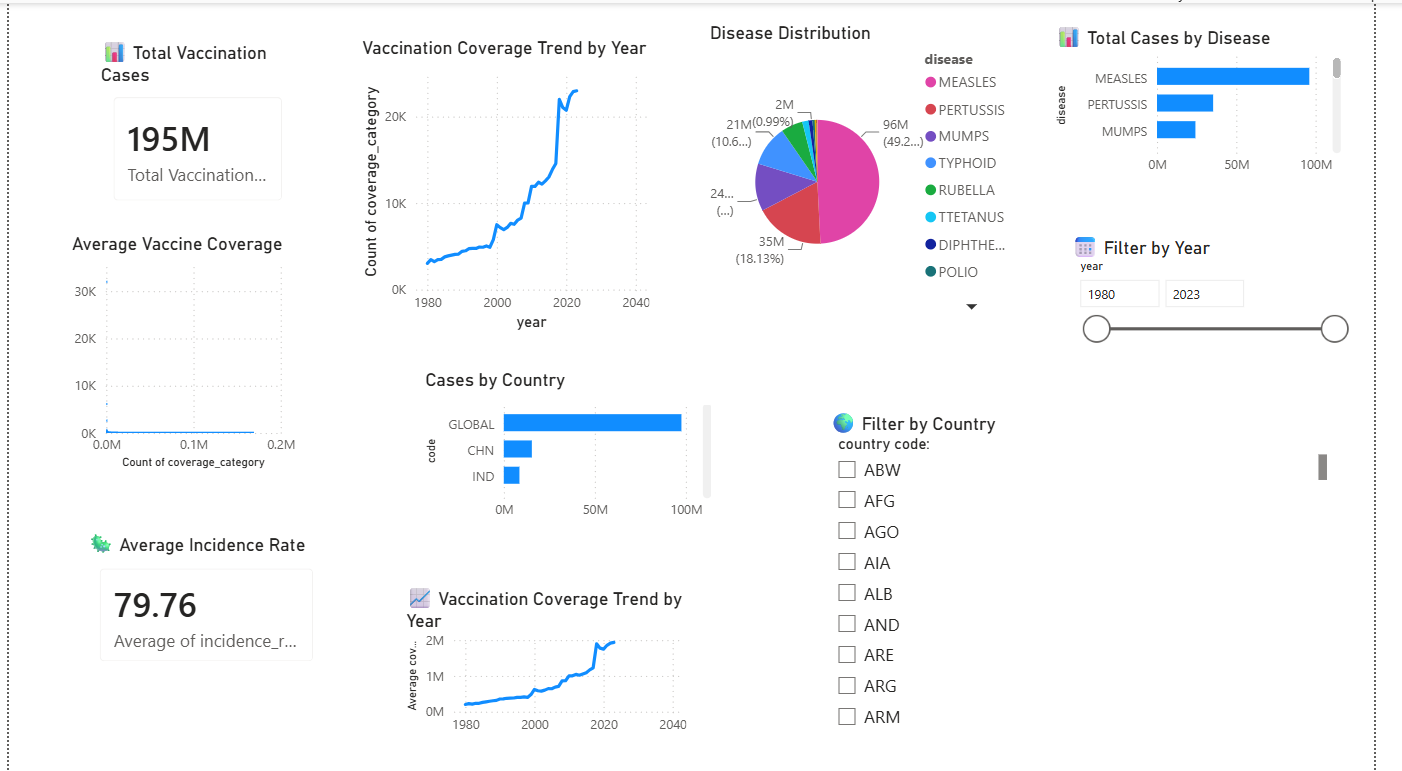

This screenshot's page, from the dashboard's own definition file:
{"tool":"powerbi","page":{"name":"Page 1","canvas":[1280,720],"ordinal":0},"visuals":[{"type":"cardVisual","title":"📊 Total Vaccination Cases","fields":{"Data":["Sum(cleaned_cases.cases)"]},"box":[81.1,31.9,192.9,170.3],"z":0},{"type":"cardVisual","title":"🦠 Average Incidence Rate","fields":{"Data":["Avg(cleaned_incidence.incidence_rate)"]},"box":[67.8,493.6,234.1,141],"z":1000},{"type":"lineChart","title":"Vaccination Coverage Trend by Year","fields":{"Category":["cleaned_coverage.year"],"Y":["CountNonNull(cleaned_coverage.coverage_category)"]},"box":[325.9,31.9,279.4,279.4],"z":2000},{"type":"clusteredBarChart","title":"Average Vaccine Coverage","fields":{"Category":["cleaned_coverage.average"],"Y":["CountNonNull(cleaned_coverage.coverage_category)"]},"box":[54.5,215.5,219.5,226.2],"z":3000},{"type":"clusteredBarChart","title":"📊 Total Cases by Disease","fields":{"Category":["cleaned_cases.disease"],"Y":["Sum(cleaned_cases.cases)"]},"box":[976.5,18.6,278,151.7],"z":4000},{"type":"clusteredBarChart","title":"Cases by Country","fields":{"Category":["cleaned_cases.code"],"Y":["Sum(cleaned_cases.cases)"]},"box":[385.8,343.2,278,150.3],"z":5000},{"type":"lineChart","title":"📈 Vaccination Coverage Trend by Year","fields":{"Category":["cleaned_coverage.year"],"Y":["Sum(cleaned_coverage.average)"]},"box":[367.2,544.1,272.7,150.3],"z":6000},{"type":"slicer","title":"📅 Filter by Year","fields":{"Values":["cleaned_cases.year"]},"box":[991.1,215.5,272.7,151.7],"z":7000},{"type":"slicer","title":"🌍 Filter by Country","fields":{"Values":["cleaned_cases.code"]},"box":[764.9,380.5,476.3,314],"z":8000},{"type":"pieChart","title":"Disease Distribution","fields":{"Category":["cleaned_cases.disease"],"Y":["Sum(cleaned_cases.cases)"]},"box":[651.9,18.6,298,279.4],"z":9000}]}

Visuals, with their boxes in screenshot pixels (x1, y1, x2, y2), scaled from the page's 1280x720 canvas onto the 1402x771 screenshot:
"📊 Total Vaccination Cases" cardVisual: 89/34/300/217
"🦠 Average Incidence Rate" cardVisual: 74/529/331/680
"Vaccination Coverage Trend by Year" lineChart: 357/34/663/333
"Average Vaccine Coverage" clusteredBarChart: 60/231/300/473
"📊 Total Cases by Disease" clusteredBarChart: 1070/20/1374/182
"Cases by Country" clusteredBarChart: 423/368/727/528
"📈 Vaccination Coverage Trend by Year" lineChart: 402/583/701/744
"📅 Filter by Year" slicer: 1086/231/1384/393
"🌍 Filter by Country" slicer: 838/407/1360/744
"Disease Distribution" pieChart: 714/20/1040/319
